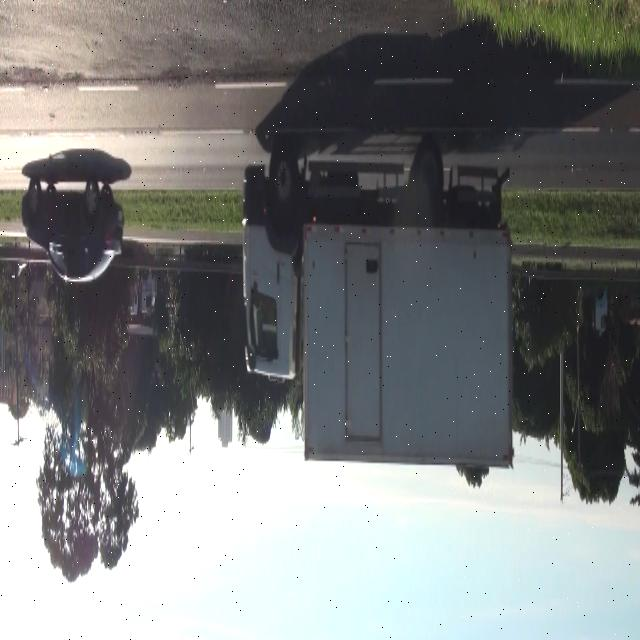-axle: (269, 146, 300, 228), (410, 147, 444, 209)
